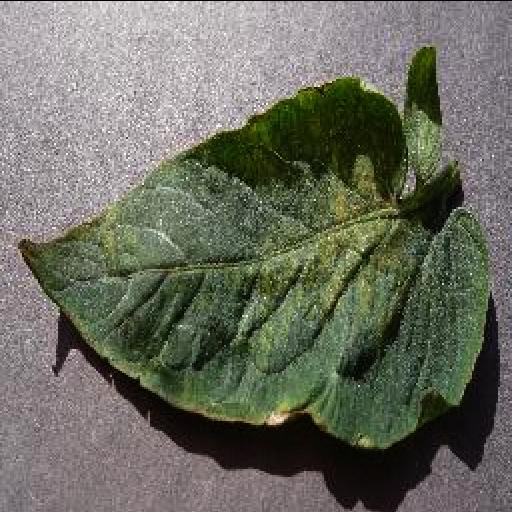disease_tomato: (14, 45, 494, 449)
